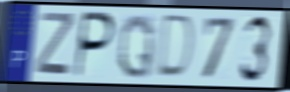3: (237, 14, 278, 85)
7: (201, 15, 237, 82)
D: (154, 12, 197, 82)
P: (72, 9, 117, 80)
Q: (116, 12, 156, 81)
Z: (34, 11, 77, 79)
